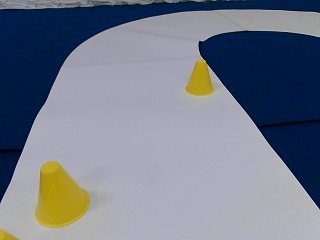cone: (34, 162, 90, 226), (185, 60, 214, 95)
